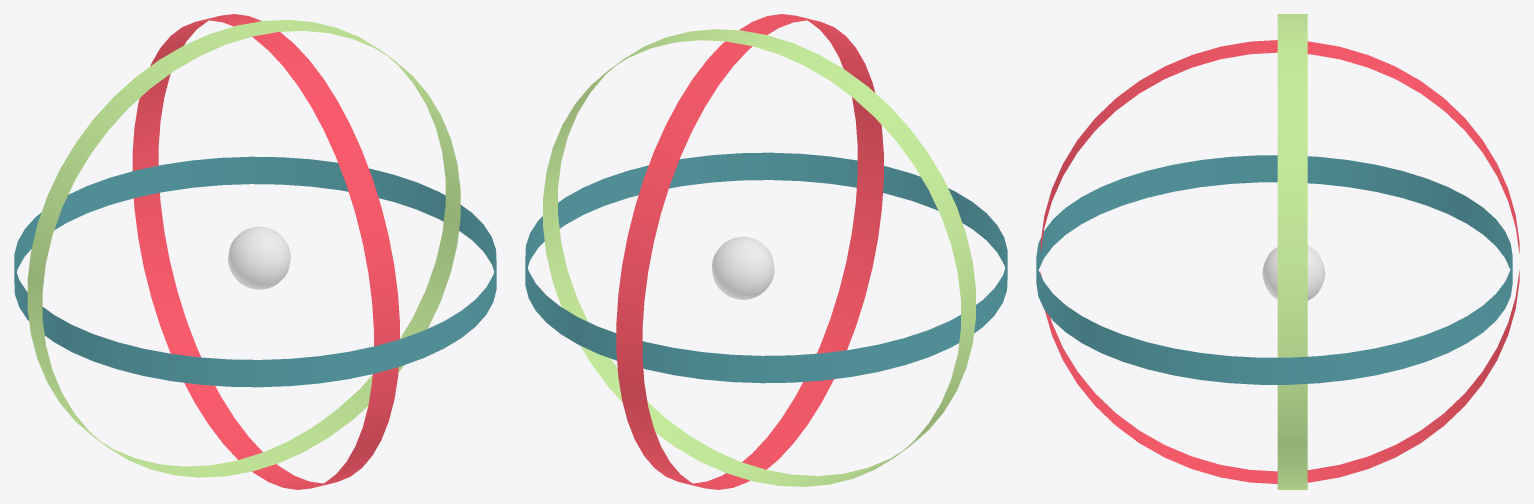
File: gizmo_circles.glb
The picture shows the model from 3 angles, left to right: view 1: azimuth 30°, elevation 25°; view 2: azimuth 150°, elevation 25°; view 3: azimuth 270°, elevation 25°; orthographic projection.
Visible parts, largest first — view 1: Cylinder.004, Cylinder.007, Cylinder.005, centre; view 2: Cylinder.007, Cylinder.004, Cylinder.005, centre; view 3: Cylinder.004, Cylinder.005, Cylinder.007, centre.
Boxes of the visible parts, box(x1,y1,x2,y2) form: Cylinder.004: box(14, 156, 496, 387); Cylinder.007: box(132, 14, 399, 489); Cylinder.005: box(27, 20, 460, 477); centre: box(228, 226, 290, 289); Cylinder.007: box(616, 14, 883, 489); Cylinder.004: box(525, 152, 1007, 383); Cylinder.005: box(543, 29, 975, 486); centre: box(712, 236, 774, 299); Cylinder.004: box(1036, 155, 1512, 384); Cylinder.005: box(1277, 14, 1307, 489); Cylinder.007: box(1040, 40, 1519, 483); centre: box(1262, 245, 1325, 300).
Size of the model in its own units: 1.94 by 1.93 by 1.95.
